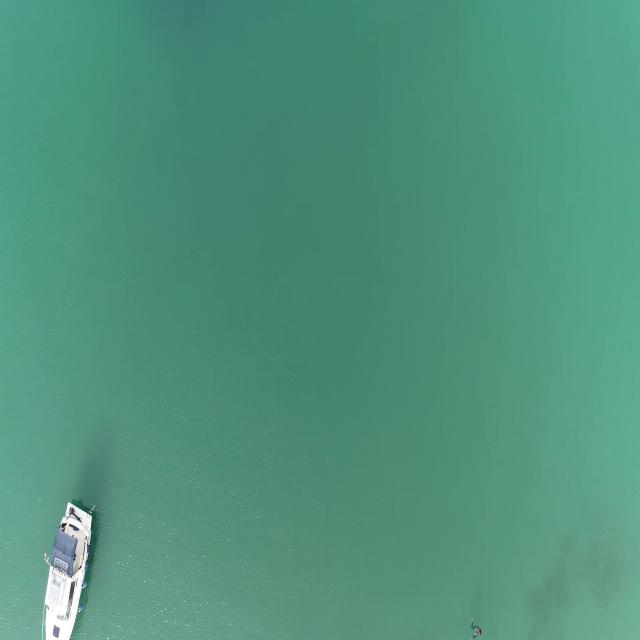boat: (37, 500, 98, 640)
person: (469, 622, 484, 637)
